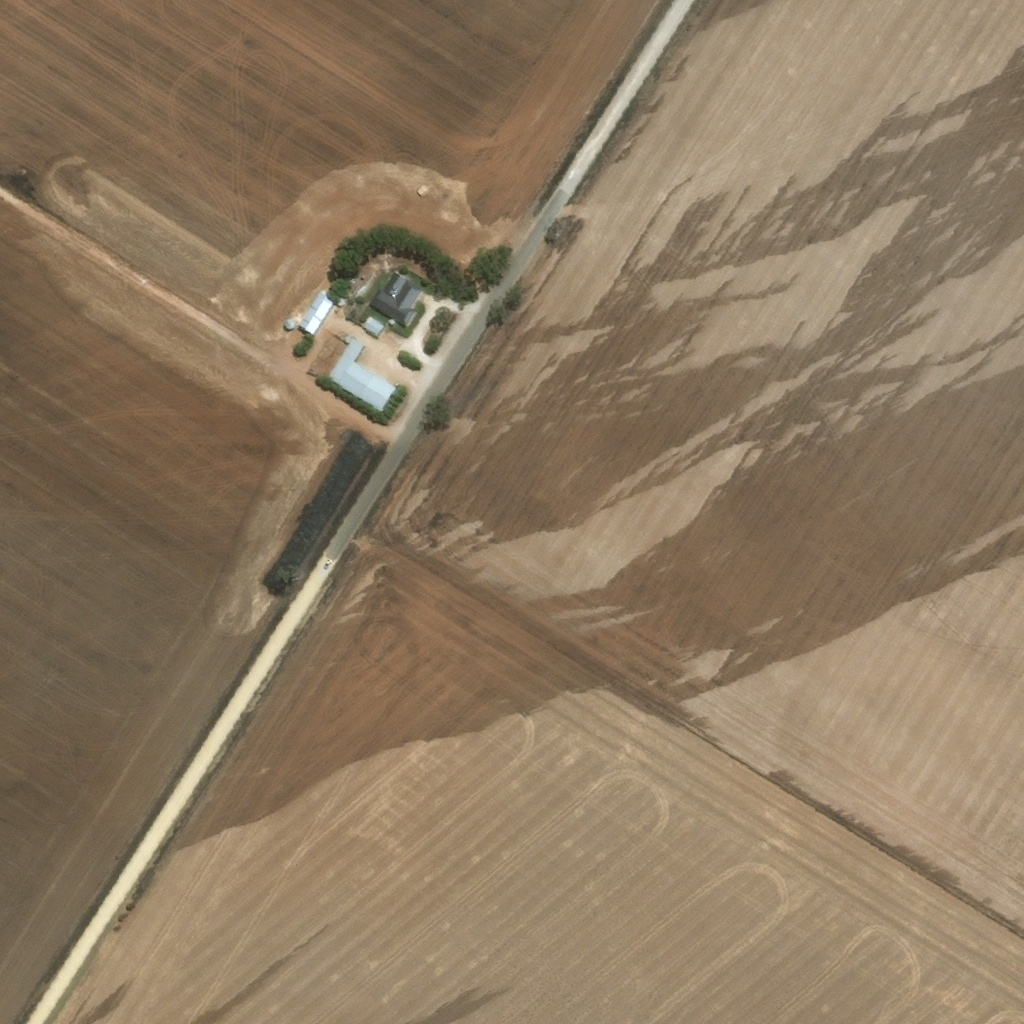0 no-damage: (325, 337, 396, 409), (366, 271, 421, 325), (295, 287, 336, 333), (360, 314, 383, 336), (334, 295, 345, 305), (384, 316, 394, 324)
